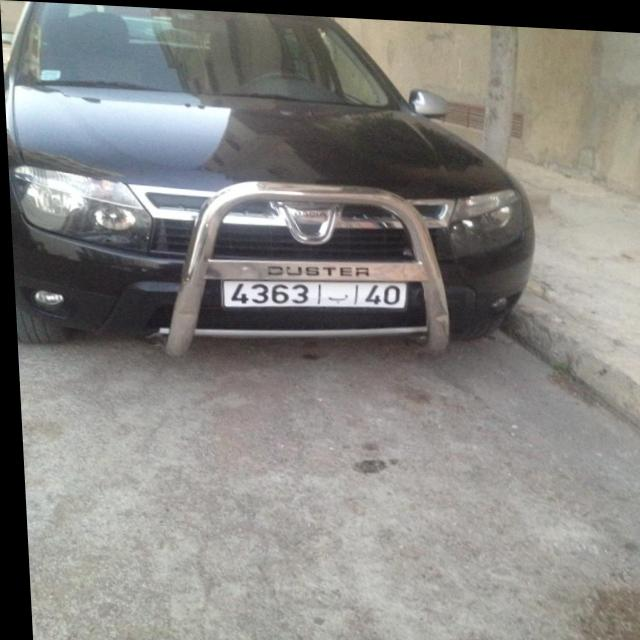License-Plate: (219, 277, 404, 305)
